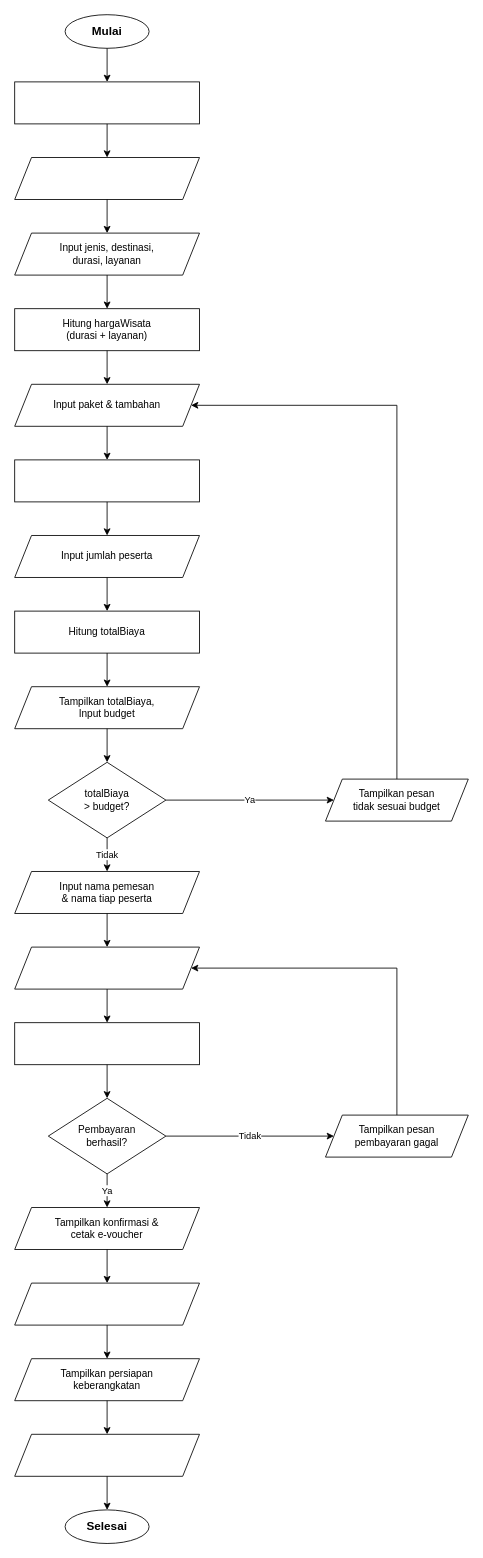
This 483x1558 diagram has some shape labels left out. The shapes that lost their labels are listed below. From the top down, each one's centre as x and y in pixels, then its label:
At pixel 107 102: "Inisialisasi jenis wisata, durasi, layanan, paket, tambahan".
At pixel 107 178: "Tampilkan katalog & daftar jenis wisata".
At pixel 107 480: "Hitung hargaTambahan".
At pixel 107 967: "Input metode pembayaran".
At pixel 107 1043: "Proses pembayaran".
At pixel 107 1303: "Cetak itinerary & dokumen perjalanan".
At pixel 107 1454: "Tampilkan perjalanan wisata dilaksanakan".
